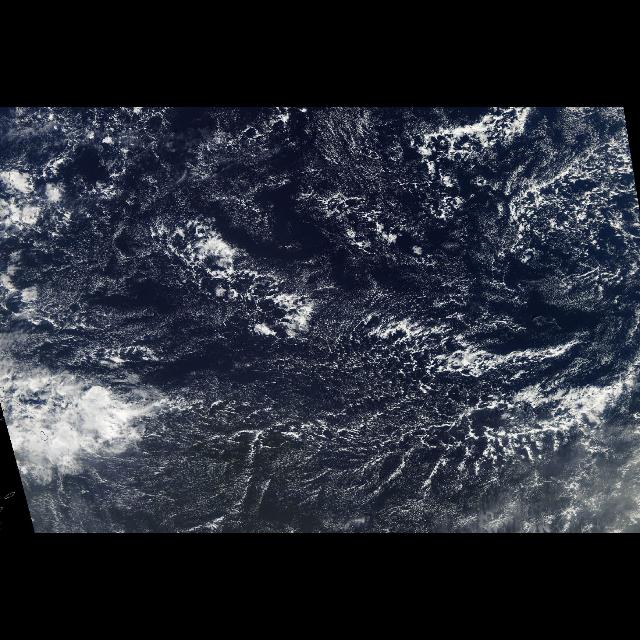Fish: (129, 213, 353, 349)
Sugar: (153, 371, 470, 534), (16, 192, 118, 366), (291, 112, 409, 204)
